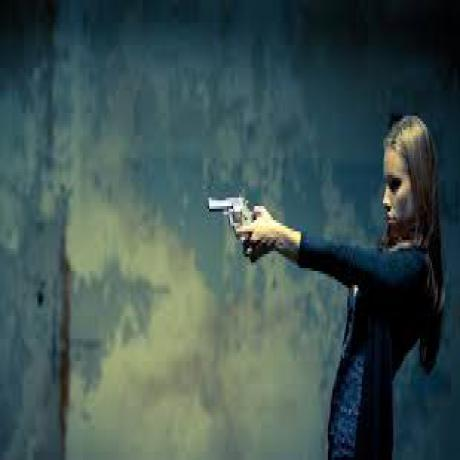Guns: (209, 186, 258, 242)
